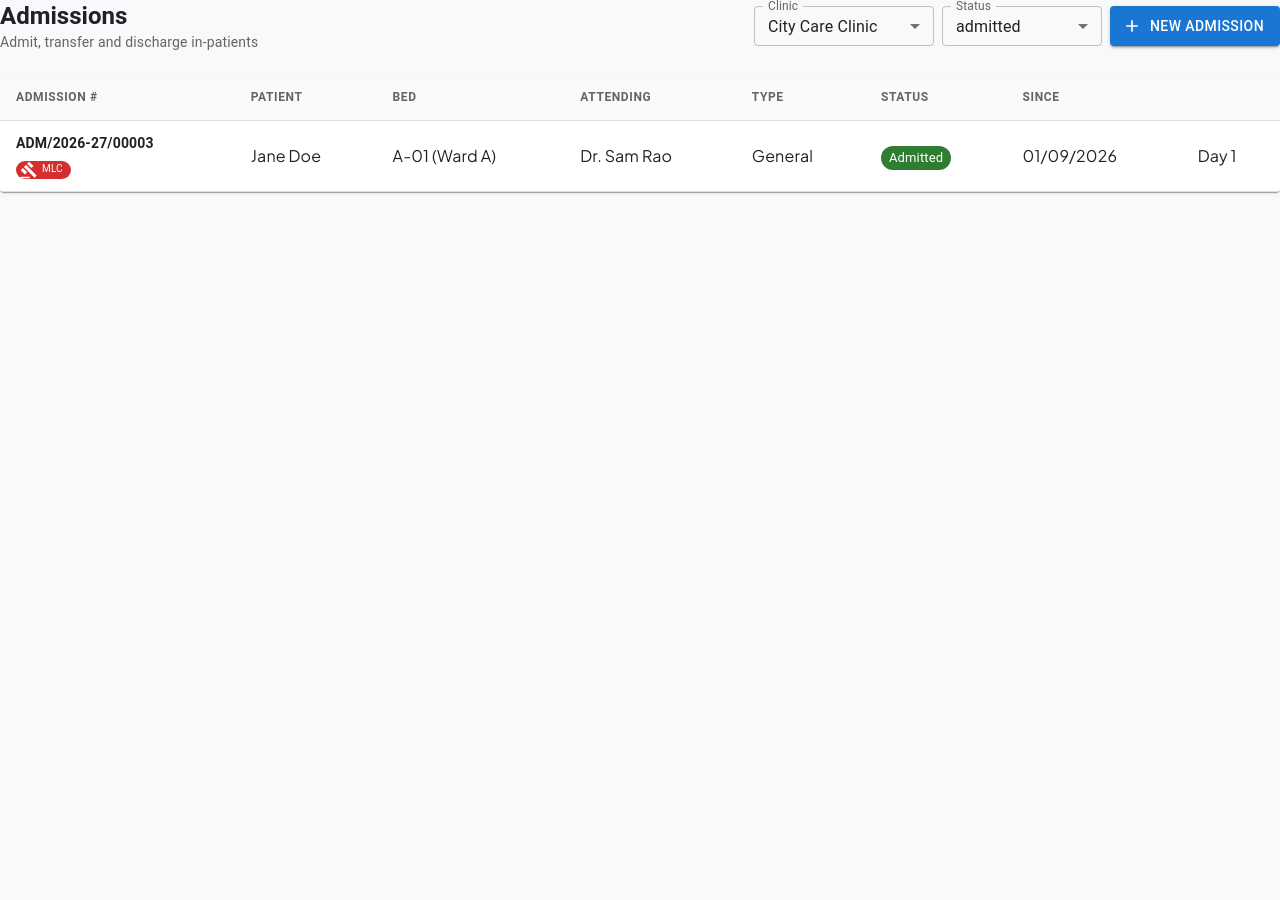
Test case: ipd/Admissions › shows the police-intimation-overdue warning for a flagged MLC admission
Click the text "ADM/2026-27/00003". click: click(85, 143)
box: [16,135,154,151]
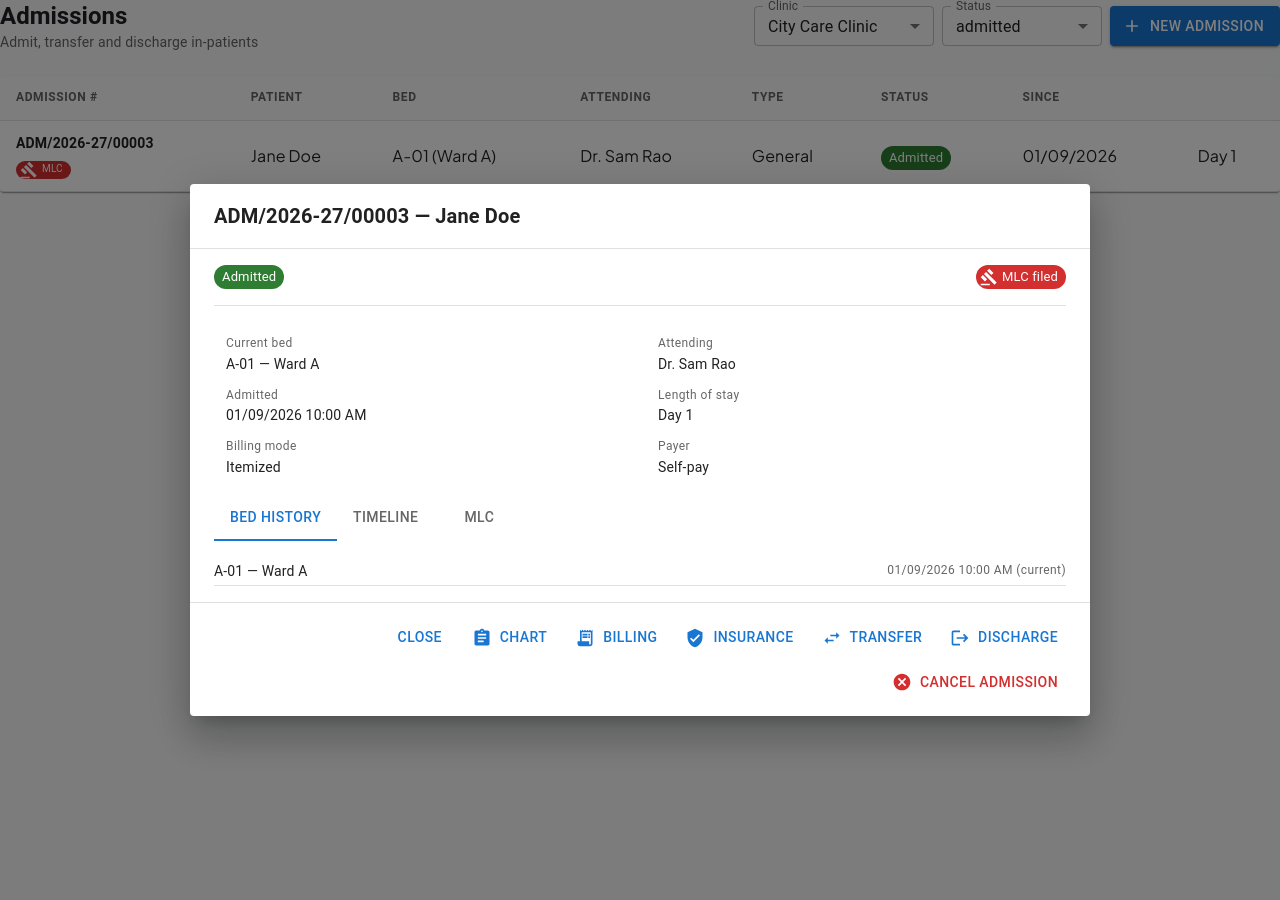
Click the tab "MLC". click: click(479, 517)
box: [434,493,524,541]
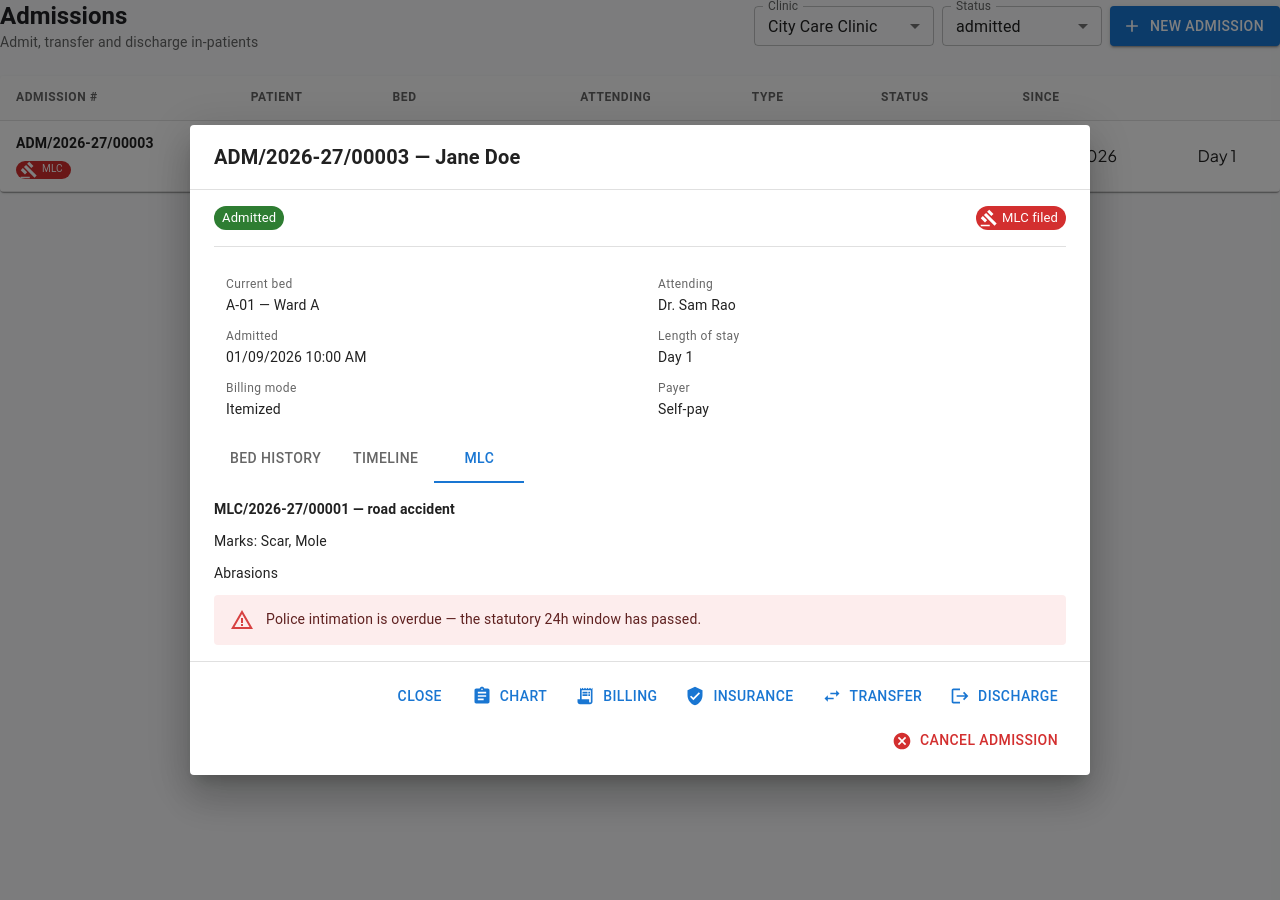
Now the text "Police intimation is overdue" is shown, box [266,611,701,627]
